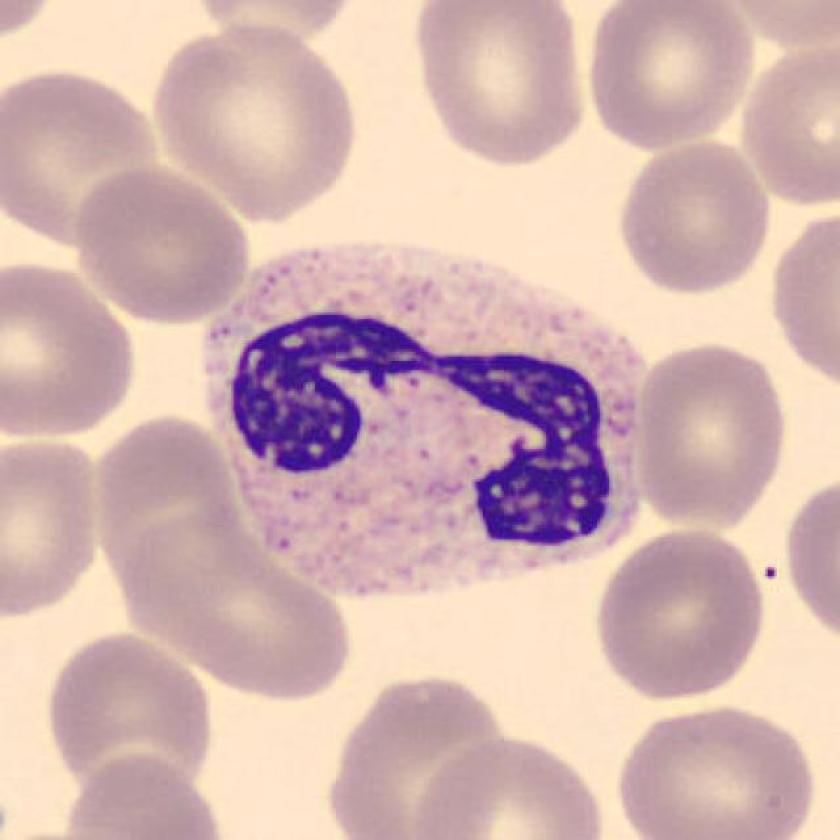neutrophil: (201, 244, 647, 598)
